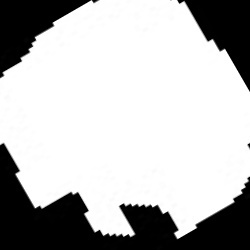spot: (1, 2, 249, 238)
